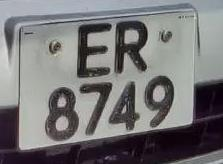4: (105, 77, 146, 137), (109, 77, 144, 135)
7: (78, 80, 116, 139)
8: (41, 82, 84, 143)
9: (139, 72, 182, 132)
E: (71, 19, 114, 81)
R: (110, 17, 155, 79)
